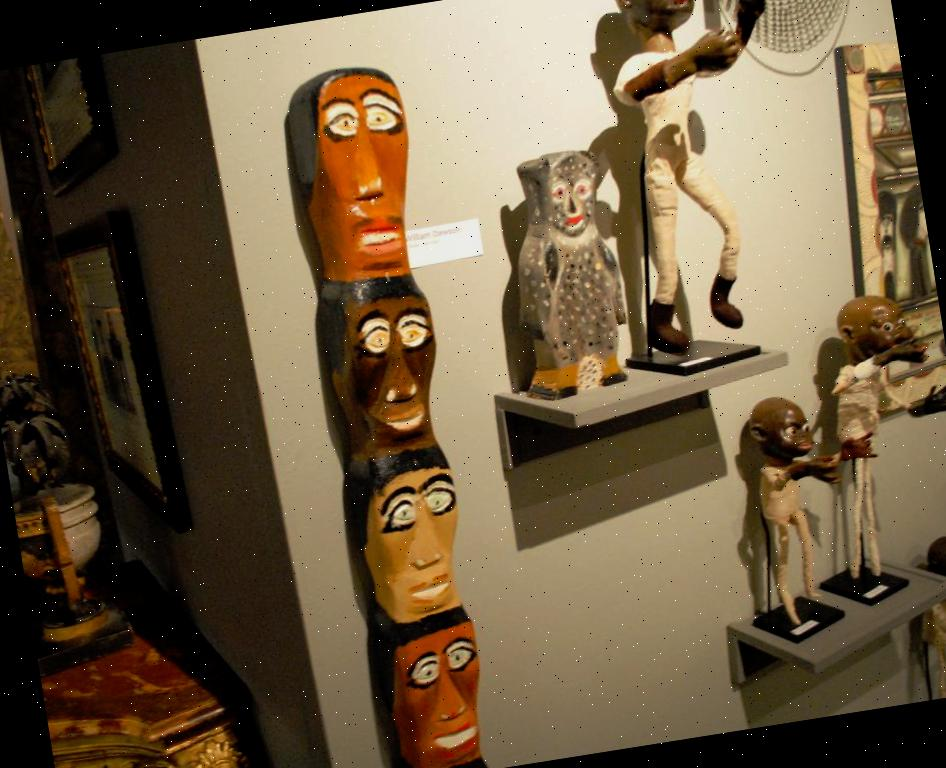Owl: (484, 132, 643, 385)
